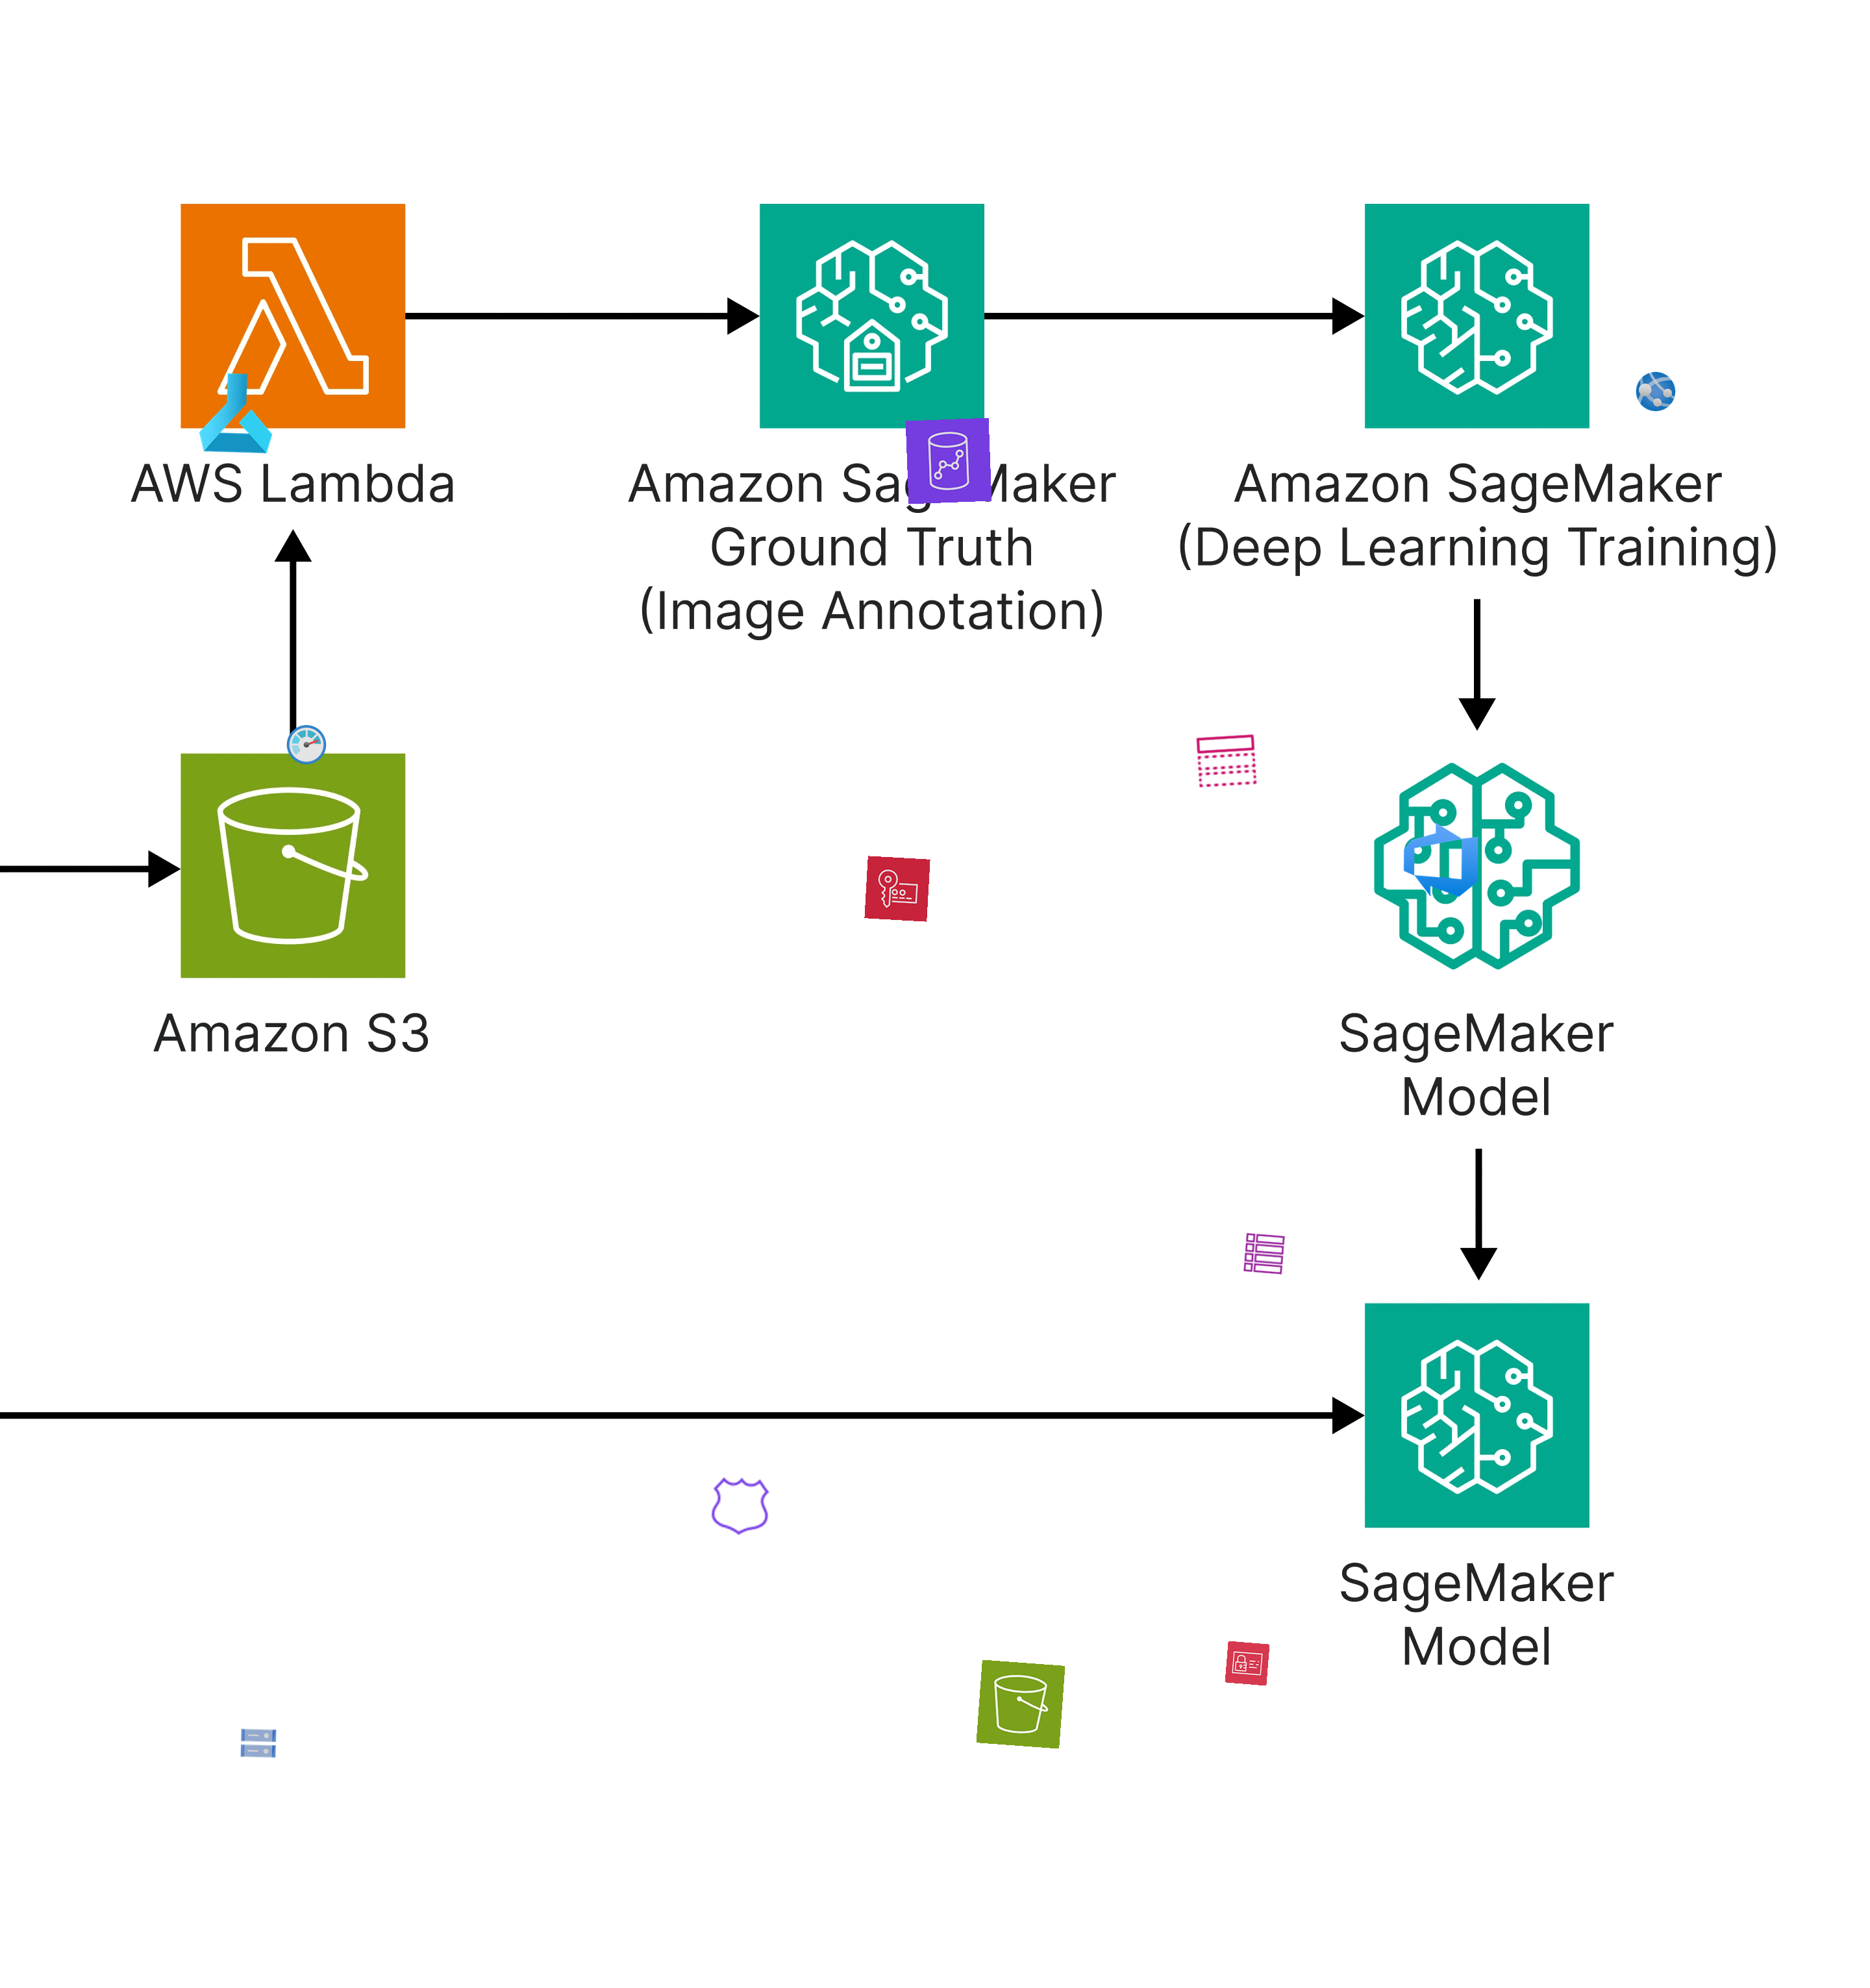aws_amazon_redshift: (905, 418, 993, 504)
aws_amazon_simple_storage_service: (975, 1659, 1065, 1749)
aws_dynamodb_table: (1241, 1230, 1287, 1276)
aws_identity_and_access_management: (1225, 1640, 1271, 1686)
aws_key_management_service: (865, 856, 930, 923)
aws_route_53_hosted_zone: (708, 1473, 773, 1540)
aws_simple_notification_service_topic: (1193, 728, 1260, 794)
azure_app_services: (1633, 369, 1678, 415)
azure_devops: (1399, 817, 1483, 902)
azure_machine_learning: (193, 371, 279, 455)
azure_monitor: (285, 722, 329, 766)
gcp_cloud_storage: (237, 1723, 279, 1765)
